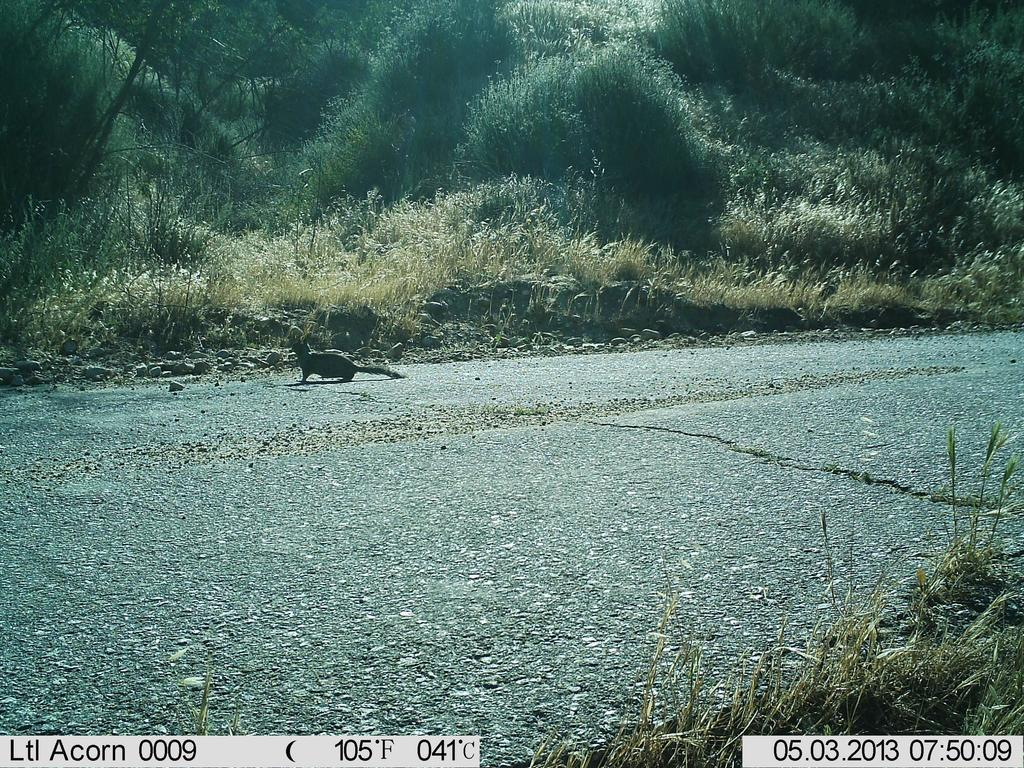squirrel: (278, 332, 418, 397)
